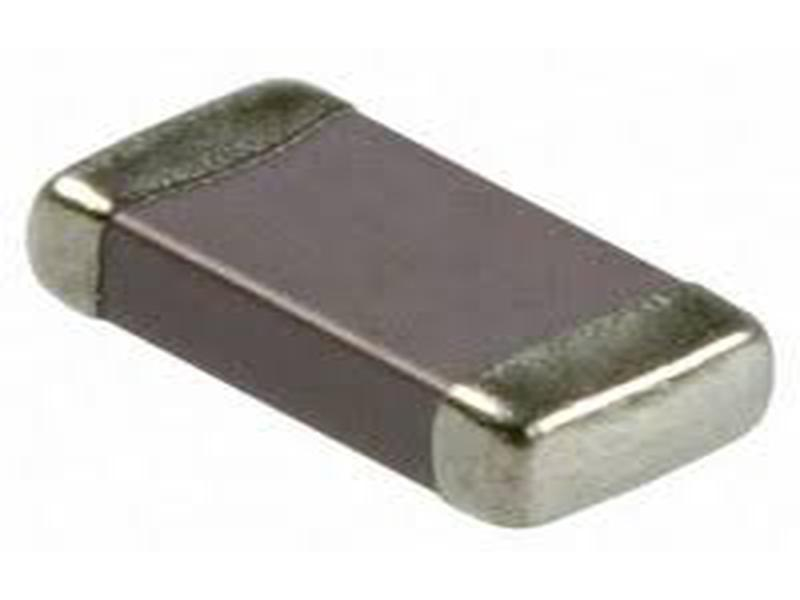SMD capacitor: (27, 71, 784, 535)
